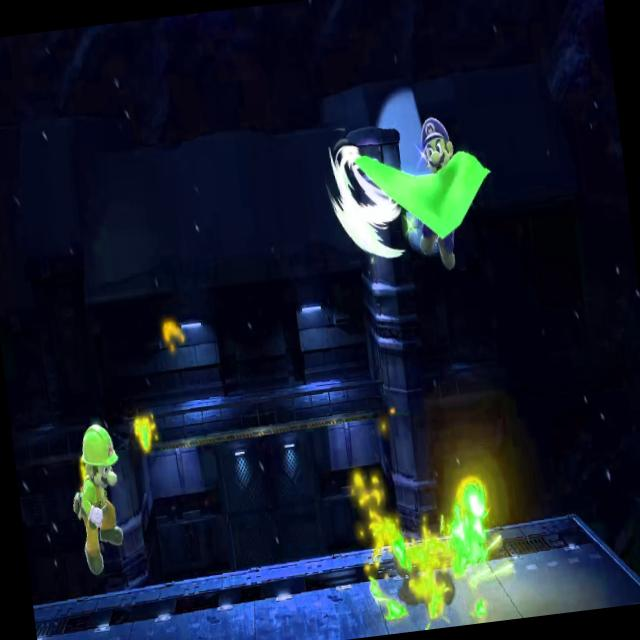Mario: (59, 413, 133, 579)
Mario-SB: (339, 104, 506, 283)
